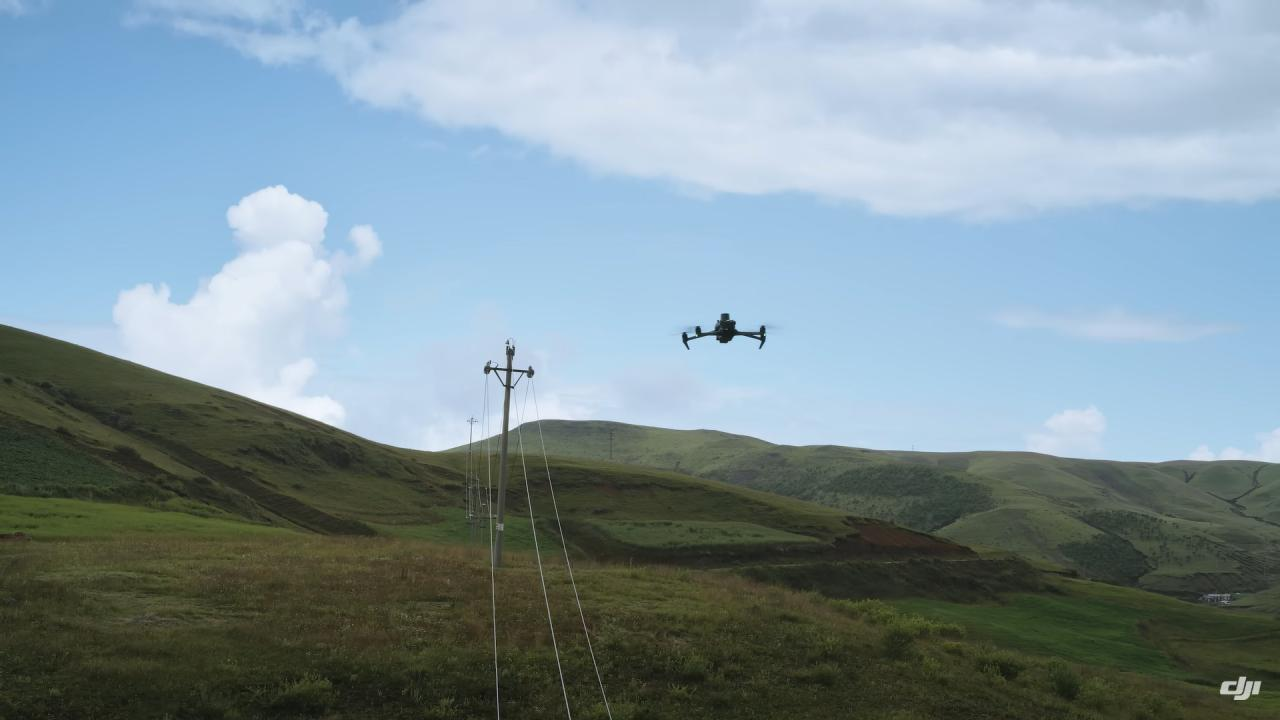Drone: (661, 303, 792, 361)
